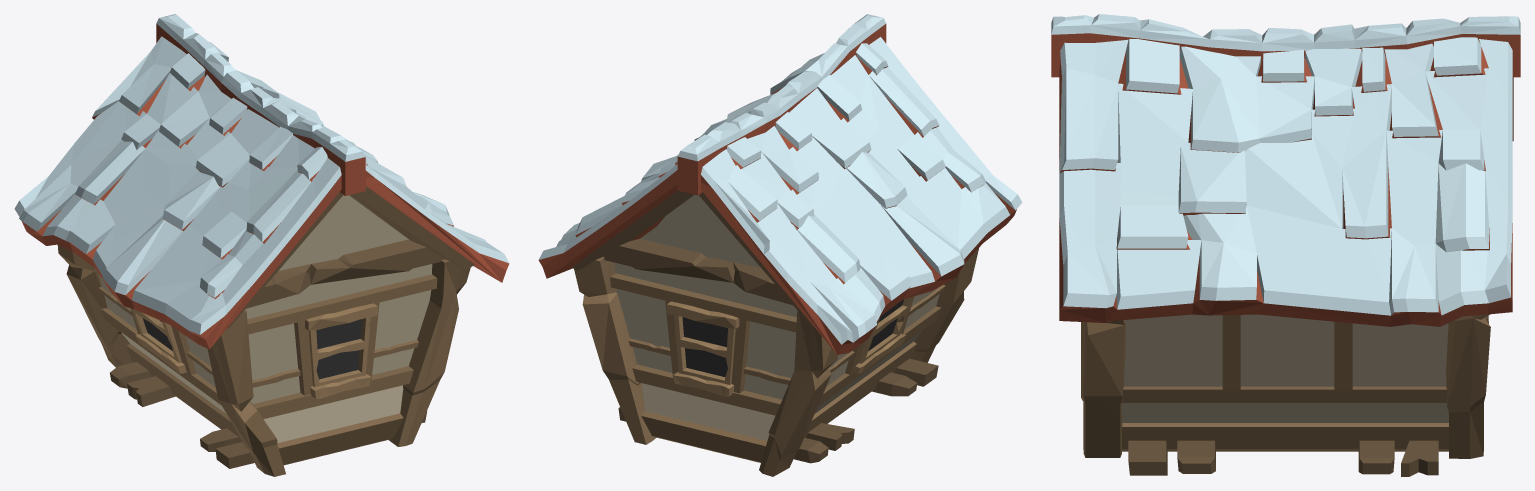
The model's file is SM_Bld_House_TopRoomSmall_02_Snow.gltf.
3 renders of one model, left to right at view 1: azimuth 30°, elevation 25°; view 2: azimuth 150°, elevation 25°; view 3: azimuth 270°, elevation 25°, orthographic. The views are drawn at different scales.
Parts seen in each view (by area): view 1: SM_Bld_House_TopRoomSmall_02_Snow; view 2: SM_Bld_House_TopRoomSmall_02_Snow; view 3: SM_Bld_House_TopRoomSmall_02_Snow.
Boxes of the visible parts, x1,y1,x2,y2 form: SM_Bld_House_TopRoomSmall_02_Snow: [14, 14, 509, 476]; SM_Bld_House_TopRoomSmall_02_Snow: [538, 14, 1022, 476]; SM_Bld_House_TopRoomSmall_02_Snow: [1051, 14, 1520, 476].
Bounding box in the file's own units: 4.68 × 4.37 × 4.67.
Materials: 1 (1 with a texture image).
